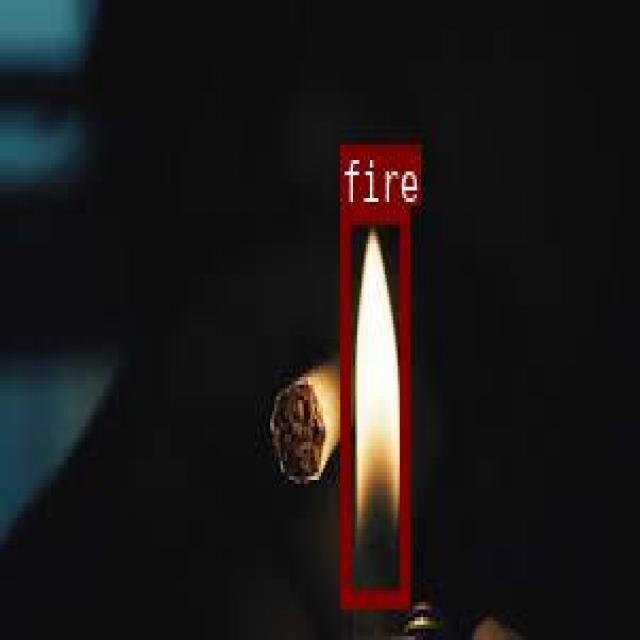fire: (339, 203, 407, 604)
